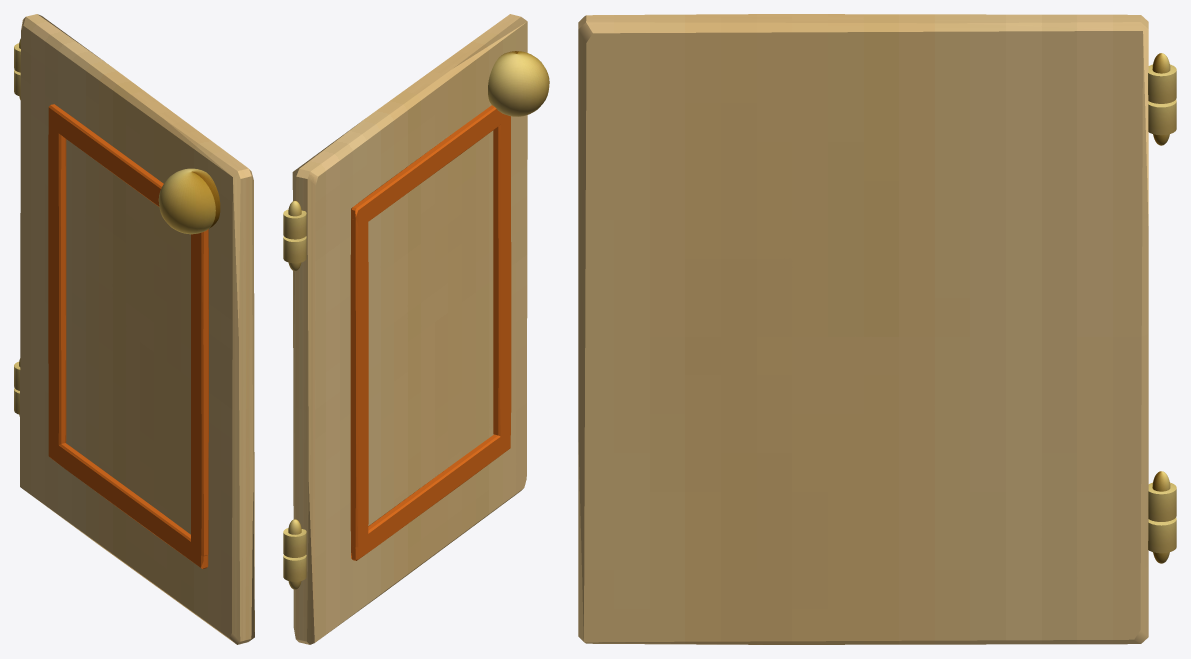
File: gabinete4.obj
The picture shows the model from 3 angles, left to right: view 1: azimuth 30°, elevation 25°; view 2: azimuth 150°, elevation 25°; view 3: azimuth 270°, elevation 25°; orthographic projection. The views are drawn at different scales.
Visible parts, largest first — view 1: cuarto:cuarto:polySurface7193polySurface7523; view 2: cuarto:cuarto:polySurface7193polySurface7523; view 3: cuarto:cuarto:polySurface7193polySurface7523.
Boxes of the visible parts, x1=… form: cuarto:cuarto:polySurface7193polySurface7523: x1=14, y1=14, x2=254, y2=644; cuarto:cuarto:polySurface7193polySurface7523: x1=283, y1=14, x2=549, y2=644; cuarto:cuarto:polySurface7193polySurface7523: x1=578, y1=14, x2=1176, y2=644.
Bounding box in the file's own units: 0.1729 × 1.17 × 1.02.
Materials: 3 (3 with a texture image).
